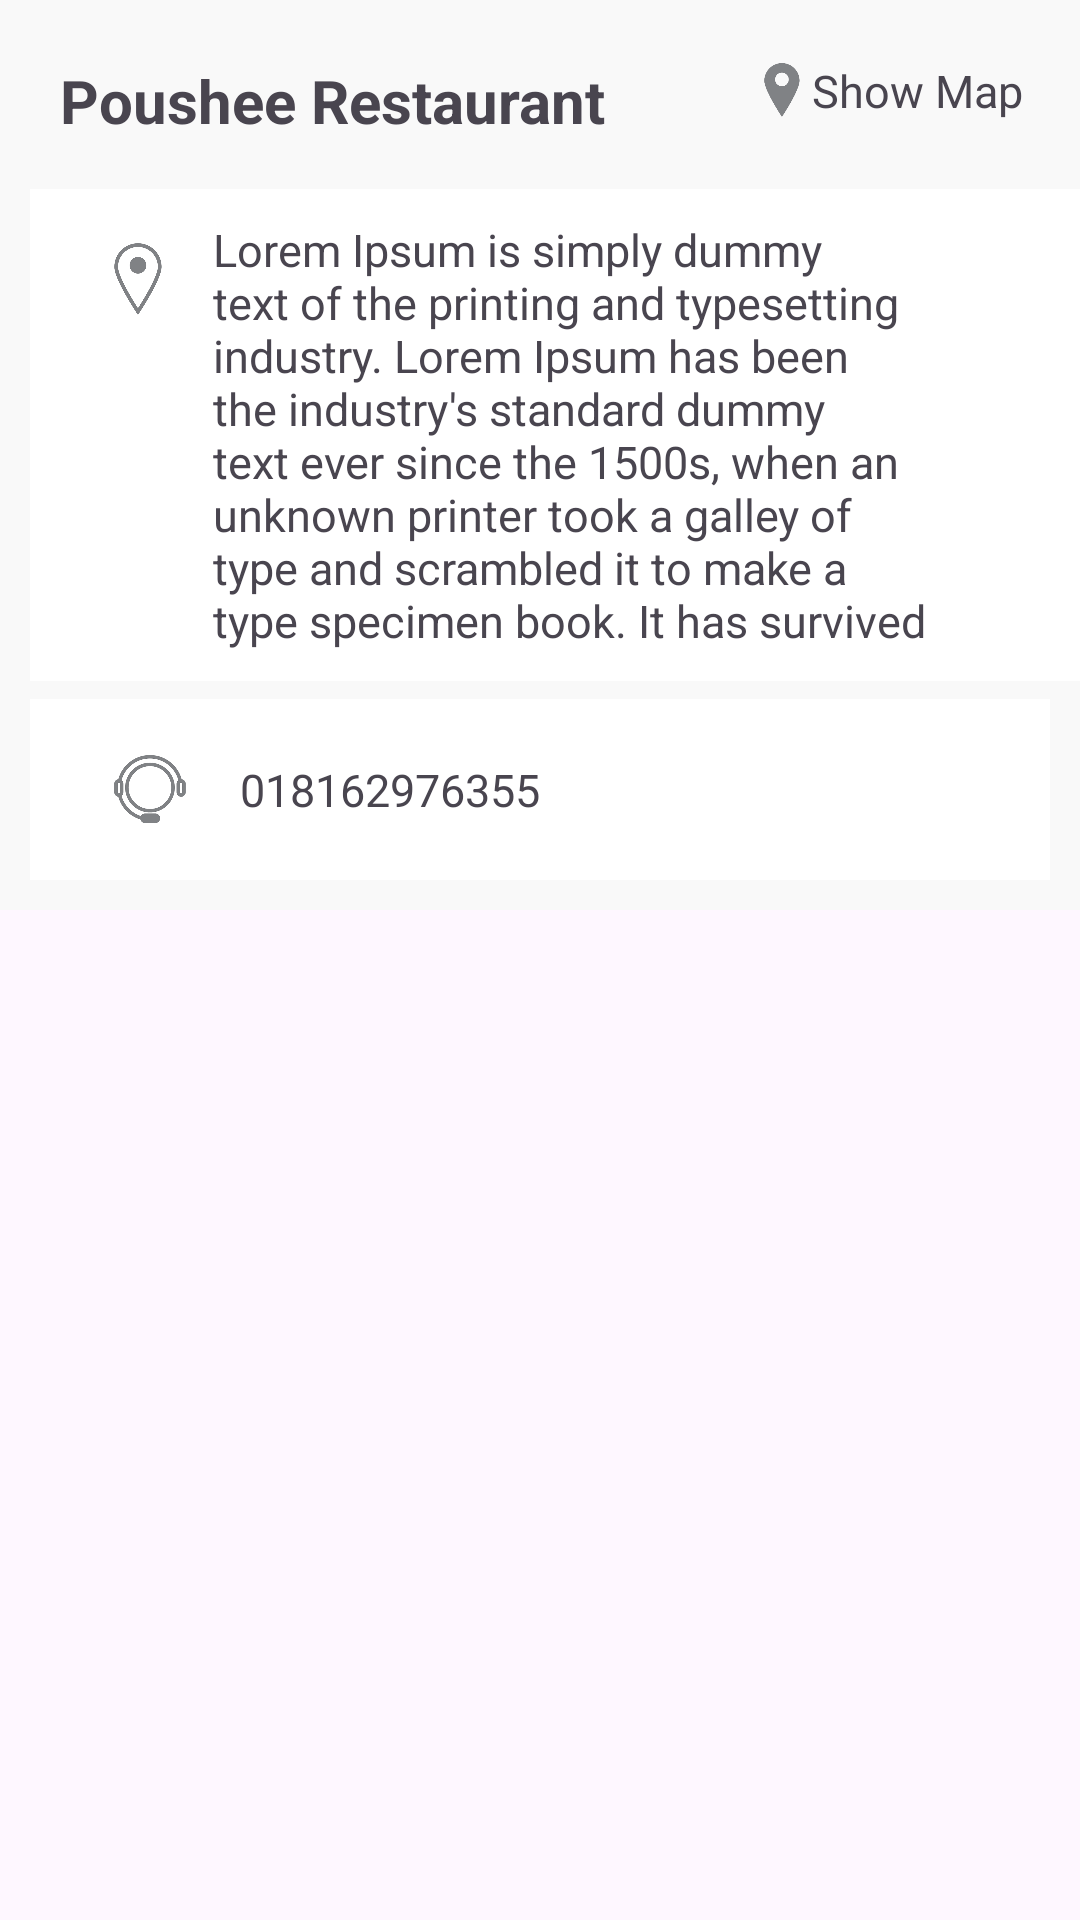

Where icons sit on this 1080px x 1920px app screen, as (x1, y1, x2, y2):
hotlineico: (114, 755, 186, 823)
locationico: (114, 243, 162, 314)
maploc: (764, 63, 800, 117)
